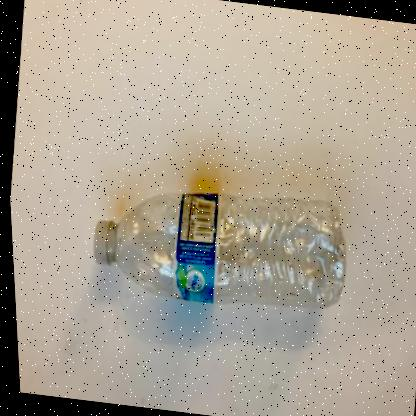Plastic: (90, 192, 344, 308)
